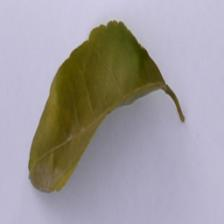greening: (18, 54, 137, 169)
